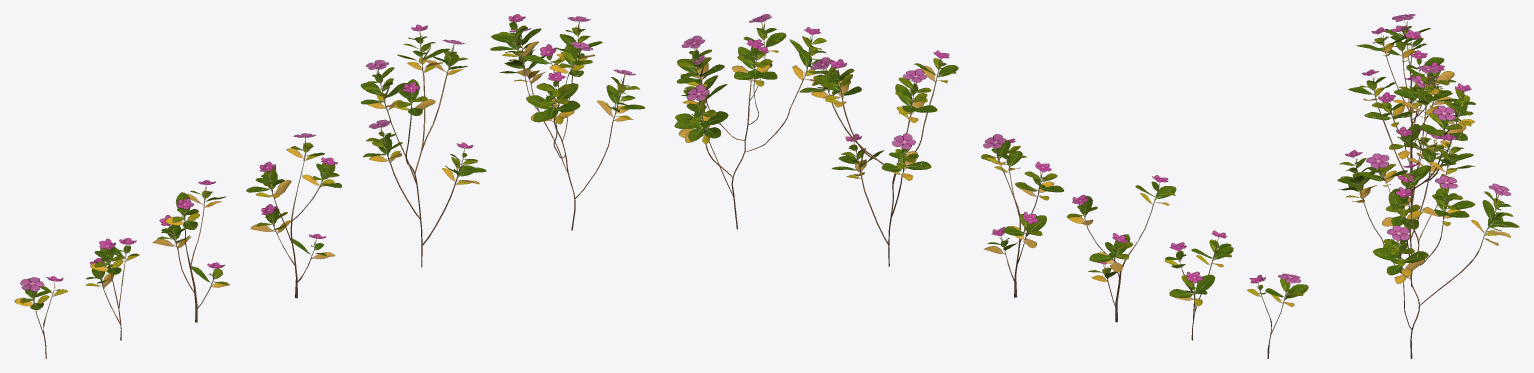
File: periwinkle_plant.glb
3 renders of one model, left to right at view 1: azimuth 30°, elevation 25°; view 2: azimuth 150°, elevation 25°; view 3: azimuth 270°, elevation 25°, orthographic. The views are drawn at different scales.
Visible parts, largest first — view 1: periwinkle_plant_01_LOD0, periwinkle_plant_02_LOD0, periwinkle_plant_03_LOD0, periwinkle_plant_04_LOD0, periwinkle_plant_05_LOD0, periwinkle_plant_06_LOD0; view 2: periwinkle_plant_01_LOD0, periwinkle_plant_02_LOD0, periwinkle_plant_03_LOD0, periwinkle_plant_04_LOD0, periwinkle_plant_05_LOD0, periwinkle_plant_06_LOD0; view 3: periwinkle_plant_01_LOD0, periwinkle_plant_02_LOD0, periwinkle_plant_03_LOD0, periwinkle_plant_04_LOD0, periwinkle_plant_05_LOD0, periwinkle_plant_06_LOD0.
Boxes of the visible parts, left/top/right/bottom form: periwinkle_plant_01_LOD0: left=490, top=14, right=644, bottom=230; periwinkle_plant_02_LOD0: left=360, top=24, right=486, bottom=267; periwinkle_plant_03_LOD0: left=246, top=133, right=341, bottom=298; periwinkle_plant_04_LOD0: left=152, top=180, right=229, bottom=322; periwinkle_plant_05_LOD0: left=85, top=238, right=139, bottom=340; periwinkle_plant_06_LOD0: left=14, top=276, right=67, bottom=358; periwinkle_plant_01_LOD0: left=674, top=14, right=834, bottom=229; periwinkle_plant_02_LOD0: left=799, top=50, right=958, bottom=266; periwinkle_plant_03_LOD0: left=981, top=134, right=1063, bottom=297; periwinkle_plant_04_LOD0: left=1067, top=175, right=1176, bottom=322; periwinkle_plant_05_LOD0: left=1164, top=230, right=1233, bottom=340; periwinkle_plant_06_LOD0: left=1247, top=273, right=1308, bottom=358; periwinkle_plant_01_LOD0: left=1337, top=133, right=1519, bottom=358; periwinkle_plant_02_LOD0: left=1348, top=65, right=1475, bottom=286; periwinkle_plant_03_LOD0: left=1364, top=75, right=1441, bottom=207; periwinkle_plant_04_LOD0: left=1356, top=27, right=1456, bottom=171; periwinkle_plant_05_LOD0: left=1378, top=25, right=1455, bottom=122; periwinkle_plant_06_LOD0: left=1384, top=14, right=1430, bottom=103.
Bounding box in the file's own units: 1.24 × 0.4107 × 0.3207.
1 material, 1 textured.
